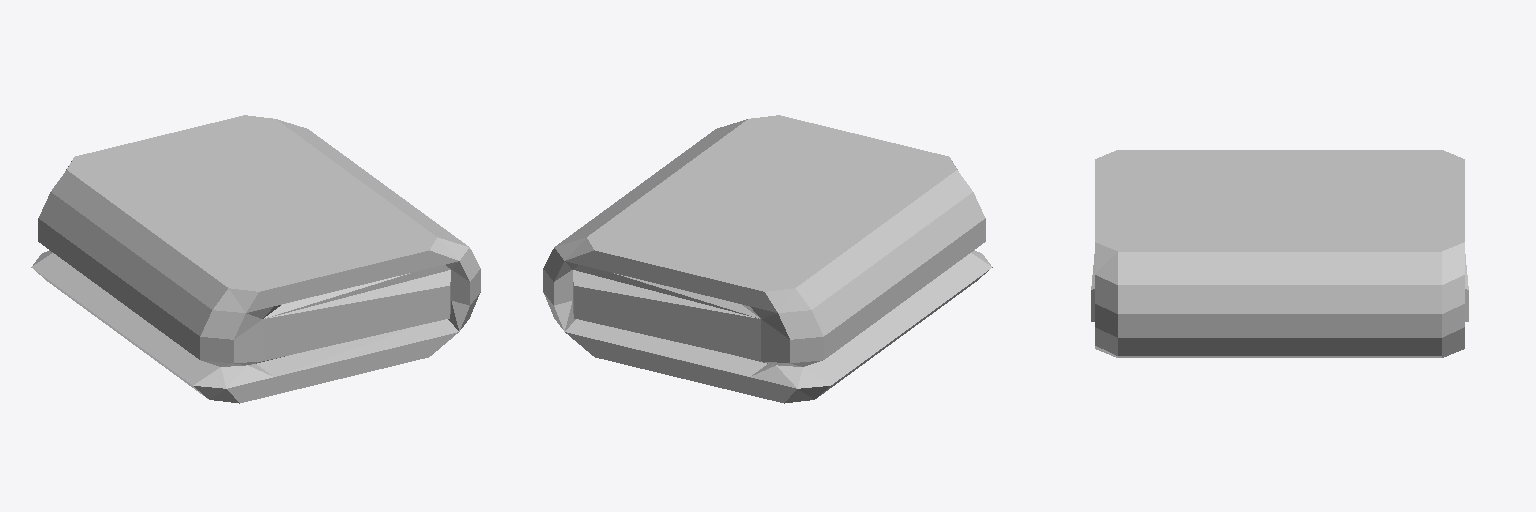
File: Room_301_0_8.obj
3 renders of one model, left to right at view 1: azimuth 30°, elevation 25°; view 2: azimuth 150°, elevation 25°; view 3: azimuth 270°, elevation 25°, orthographic.
Parts seen in each view (by area): view 1: Towel; view 2: Towel; view 3: Towel.
Part boxes in pixels (bbox=[...]): Towel: bbox=[31, 115, 480, 403]; Towel: bbox=[543, 115, 992, 403]; Towel: bbox=[1091, 150, 1468, 357].
Bounding box in the file's own units: 0.4533 × 0.1609 × 0.5154.